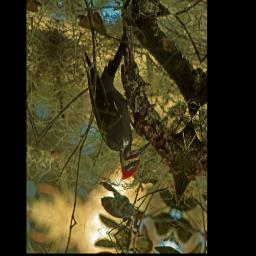Woodpecker: (65, 47, 162, 188)
